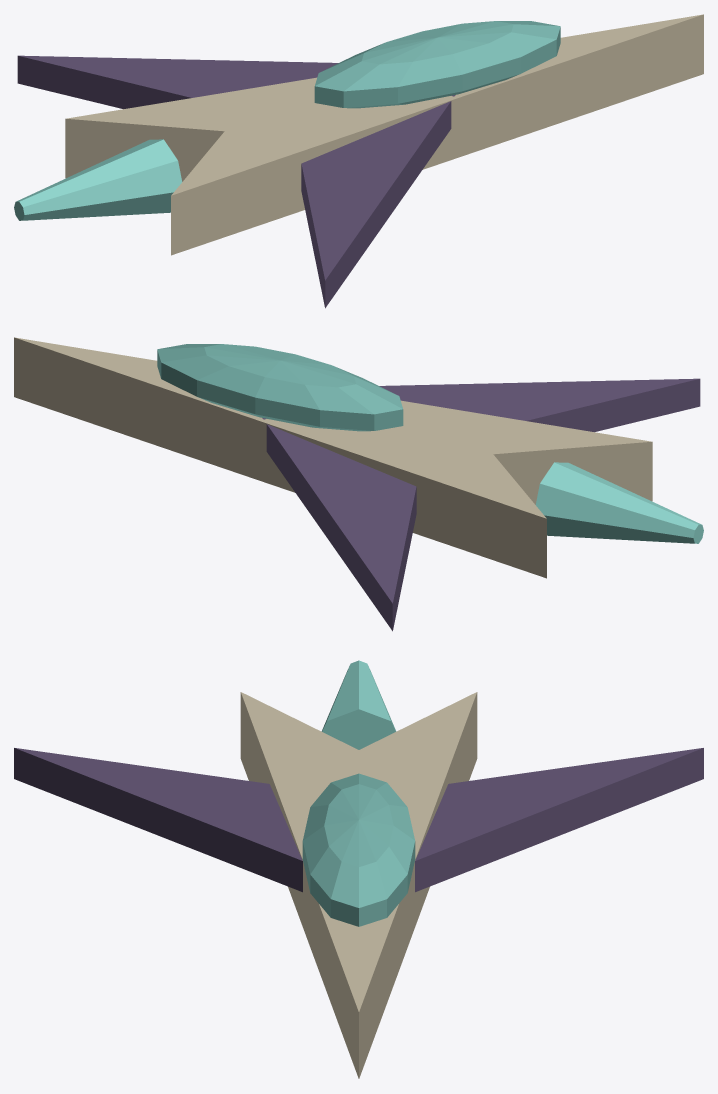
Rendered from space_shuttle.glb.
The picture shows the model from 3 angles, top to bottom: view 1: azimuth 30°, elevation 25°; view 2: azimuth 150°, elevation 25°; view 3: azimuth 270°, elevation 25°; orthographic projection. The views are drawn at different scales.
Parts seen in each view (by area): view 1: AmbientShuttle, ShuttleDrive; view 2: AmbientShuttle, ShuttleDrive; view 3: AmbientShuttle, ShuttleDrive.
Boxes of the visible parts, left/top/right/bottom form: AmbientShuttle: left=17, top=14, right=703, bottom=308; ShuttleDrive: left=14, top=139, right=182, bottom=220; AmbientShuttle: left=14, top=337, right=700, bottom=631; ShuttleDrive: left=535, top=462, right=703, bottom=543; AmbientShuttle: left=14, top=692, right=703, bottom=1078; ShuttleDrive: left=321, top=660, right=396, bottom=749.
Size of the model in its own units: 0.9 by 0.136 by 0.7.
